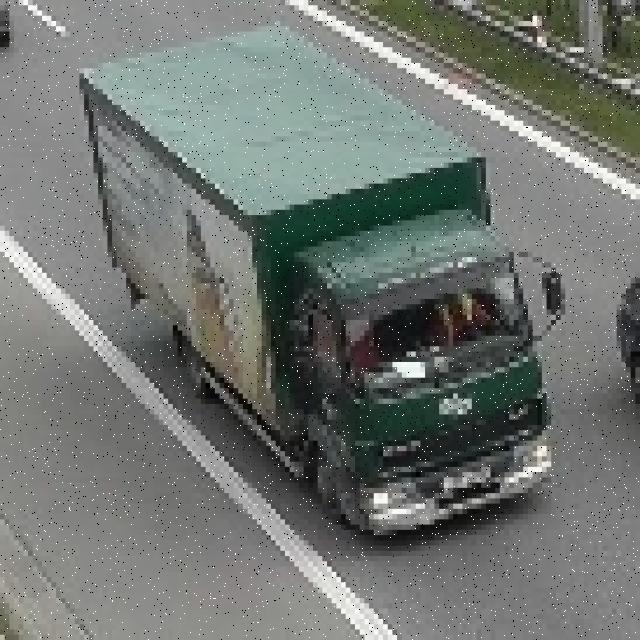truck: (84, 11, 575, 540)
